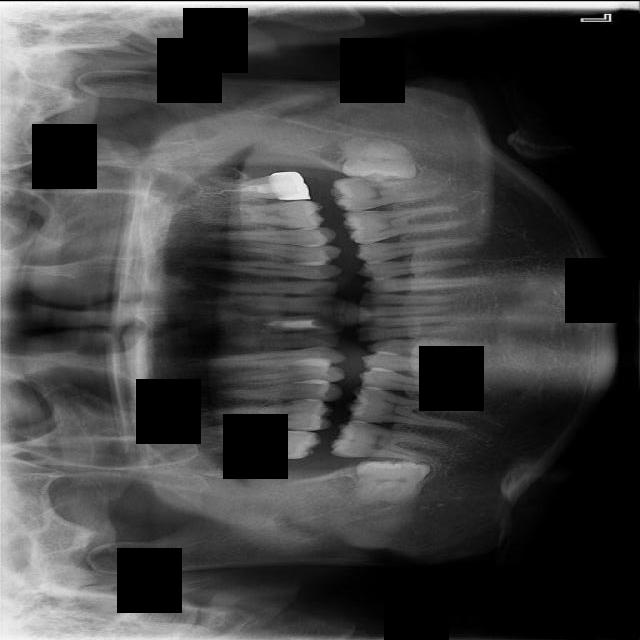52: (264, 170, 313, 200), (279, 311, 345, 333)
73: (194, 174, 271, 202), (591, 17, 605, 21)
BioHorizons Implant: (194, 170, 311, 203)
Biomet 3i Implant: (336, 134, 419, 185)
Blue Sky Bio Implant: (330, 177, 447, 212)
Caries: (183, 423, 323, 459)
Implant: (328, 416, 450, 469)
Keystone Dental Implant: (350, 457, 432, 506)
